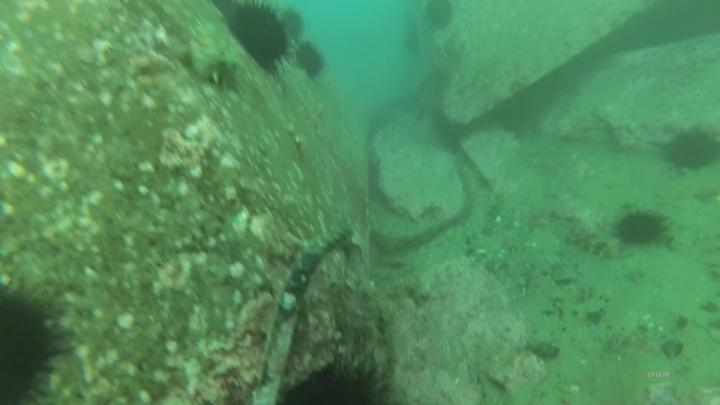echinus: (1, 281, 79, 405), (266, 343, 403, 405), (223, 1, 299, 78), (609, 202, 676, 253), (661, 124, 720, 177), (294, 36, 335, 82), (421, 1, 463, 30)
